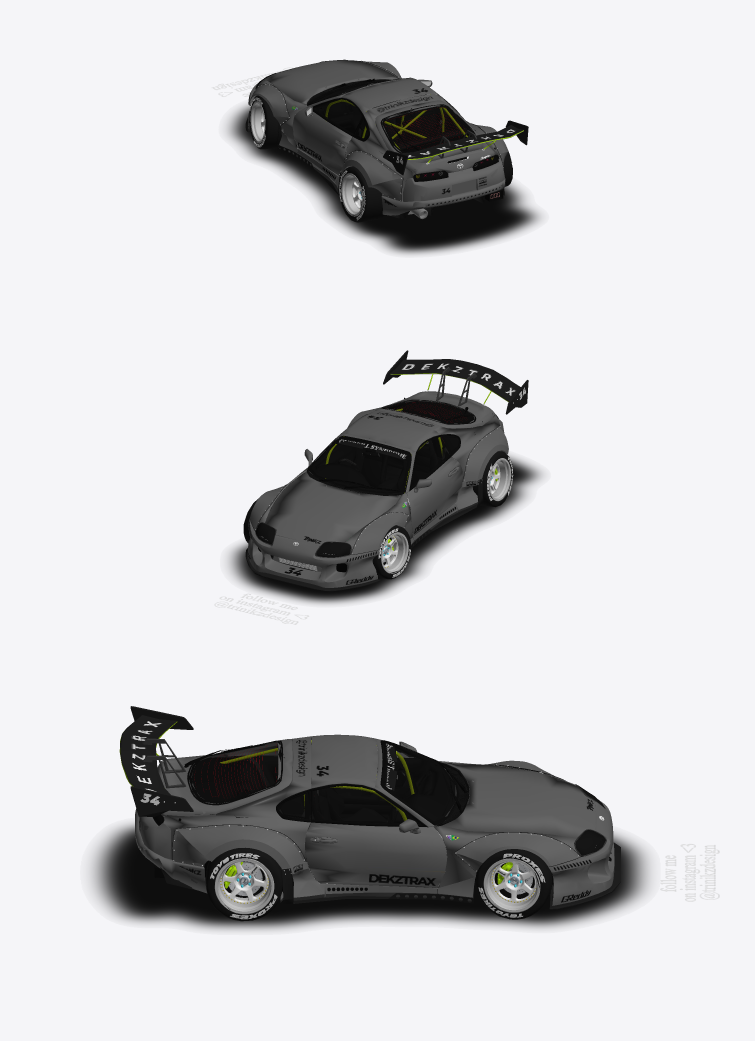
Rendered from toyota_supra_dekztrax_34.glb.
The picture shows the model from 3 angles, top to bottom: view 1: azimuth 30°, elevation 25°; view 2: azimuth 150°, elevation 25°; view 3: azimuth 270°, elevation 25°; orthographic projection. The views are drawn at different scales.
Parts seen in each view (by area): view 1: Object_174, Object_142, Object_138, Object_66, Object_23, Object_34, Object_11, Object_8, Object_76, Object_39, Object_86, Object_109 (+6 smaller); view 2: Object_174, Object_142, Object_66, Object_96, Object_37, Object_34, Object_86, Object_39, Object_78, Object_11, Object_8, Object_76 (+11 smaller); view 3: Object_174, Object_142, Object_66, Object_31, Object_8, Object_76, Object_23, Object_39, Object_96, Object_37, Object_11, Object_52 (+20 smaller).
Part boxes in pixels (x1,y1,x2,y2): Object_174: (212, 67, 539, 253); Object_142: (306, 79, 475, 162); Object_138: (381, 157, 505, 215); Object_66: (265, 60, 398, 104); Object_23: (384, 106, 471, 152); Object_34: (292, 107, 352, 175); Object_11: (375, 100, 496, 177); Object_8: (345, 93, 499, 199); Object_76: (341, 124, 508, 201); Object_39: (341, 78, 439, 113); Object_86: (400, 125, 523, 160); Object_109: (339, 166, 384, 222); Object_174: (214, 455, 541, 624); Object_142: (306, 401, 475, 513); Object_66: (265, 472, 400, 545); Object_96: (248, 519, 379, 587); Object_37: (311, 443, 408, 492); Object_34: (406, 457, 462, 536); Object_86: (390, 359, 520, 401); Object_39: (341, 414, 439, 451); Object_78: (249, 485, 408, 554); Object_11: (375, 391, 497, 428); Object_8: (368, 397, 501, 481); Object_76: (347, 406, 508, 481); Object_174: (92, 823, 719, 929); Object_142: (192, 745, 469, 861); Object_66: (442, 762, 595, 838); Object_31: (305, 822, 446, 887); Object_8: (163, 736, 312, 877); Object_76: (172, 825, 305, 868); Object_23: (192, 742, 278, 801); Object_39: (311, 734, 377, 788); Object_96: (548, 801, 614, 905); Object_37: (395, 745, 456, 821); Object_11: (157, 739, 292, 817); Object_52: (311, 747, 419, 823).
Size of the model in its own units: 6.88 by 1.34 by 6.88.
38 materials, 8 textured.
